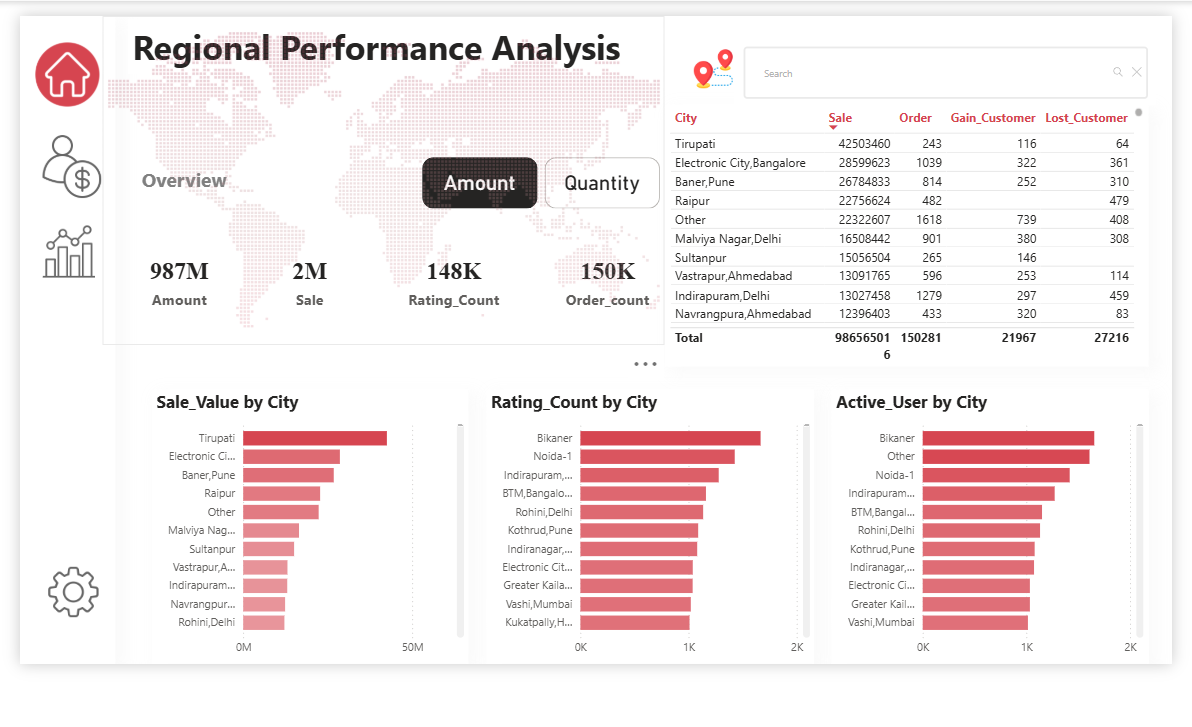

The page's visual inventory and layout, read from the dashboard file:
{"tool":"powerbi","page":{"name":"Regional Performance Analysis","canvas":[1280,720],"ordinal":3},"visuals":[{"type":"shape","box":[147.3,415.6,351.4,304.4],"z":0},{"type":"shape","box":[518.2,415.6,364.3,304.4],"z":1000},{"type":"shape","box":[901.9,415.6,353,304.4],"z":2000},{"type":"shape","box":[717.3,98.8,537.6,291.5],"z":3000},{"type":"card","fields":{"Values":["Measure_table.Sale_Value"]},"box":[121.3,253.6,110,80],"z":4000},{"type":"advancedSlicerVisual","fields":{"Values":["orders.Type"]},"box":[441,152.1,275.4,67.4],"z":5000},{"type":"card","fields":{"Values":["Measure_table.Sale_Value"]},"box":[267.4,253.6,110,80],"z":6000},{"type":"card","fields":{"Values":["orders.Rating_Count"]},"box":[413.5,253.6,136.7,80],"z":7000},{"type":"card","fields":{"Values":["orders.Order_count"]},"box":[586.3,253.6,131.7,80],"z":8000},{"type":"shape","box":[0,0,106,720],"z":9000},{"type":"image","box":[11.7,23.3,81.7,83.3],"z":10000},{"type":"image","box":[15,116.7,85,101.7],"z":11000},{"type":"image","box":[20,226.7,68.3,70],"z":12000},{"type":"image","box":[20,606,78,66],"z":13000},{"type":"textbox","box":[119.8,3.2,555.4,61.5],"z":14000},{"type":"textbox","box":[109.5,161.3,145,63.3],"z":15000},{"type":"textSearchSlicerF85E2E78BE4A4D7D9F99ED75B5D71C85","fields":{"fields":["orders.City"]},"box":[793.4,22.7,469.6,76.1],"z":16000},{"type":"clusteredBarChart","fields":{"Y":["Measure_table.Sale_Value"],"Category":["orders.City"]},"box":[147.3,415.6,351.4,304.4],"z":17000},{"type":"clusteredBarChart","fields":{"Y":["orders.Rating_Count"],"Category":["orders.City"]},"box":[518.2,415.6,364.3,304.4],"z":18000},{"type":"clusteredBarChart","fields":{"Y":["Measure_table.Active_User"],"Category":["orders.City"]},"box":[901.9,415.6,351.4,304.4],"z":19000},{"type":"image","box":[92.3,0,625,364.3],"z":20000},{"type":"tableEx","fields":{"Values":["orders.City","Measure_table.Sale_Value","orders.Order_count","Measure_table.GainCustomer","Measure_table.LostCustomer"]},"box":[717.3,97.2,536,293.1],"z":21000},{"type":"image","box":[733.5,32.4,74.5,53.4],"z":22001}]}

Visuals, with their boxes on the page's 1280x720 design canvas (x1, y1, x2, y2). These are canvas units, not pixel positions in the 1192x727 screenshot, which may show the page scaled, cropped or inside an application window:
shape: [147,416,499,720]
shape: [518,416,882,720]
shape: [902,416,1255,720]
shape: [717,99,1255,390]
card - Measure_table.Sale_Value: [121,254,231,334]
advancedSlicerVisual - orders.Type: [441,152,716,220]
card - Measure_table.Sale_Value: [267,254,377,334]
card - orders.Rating_Count: [414,254,550,334]
card - orders.Order_count: [586,254,718,334]
shape: [0,0,106,720]
image: [12,23,93,107]
image: [15,117,100,218]
image: [20,227,88,297]
image: [20,606,98,672]
textbox: [120,3,675,65]
textbox: [110,161,254,225]
textSearchSlicerF85E2E78BE4A4D7D9F99ED75B5D71C85 - orders.City: [793,23,1263,99]
clusteredBarChart - Measure_table.Sale_Value x orders.City: [147,416,499,720]
clusteredBarChart - orders.Rating_Count x orders.City: [518,416,882,720]
clusteredBarChart - Measure_table.Active_User x orders.City: [902,416,1253,720]
image: [92,0,717,364]
tableEx - orders.City x Measure_table.Sale_Value: [717,97,1253,390]
image: [734,32,808,86]
